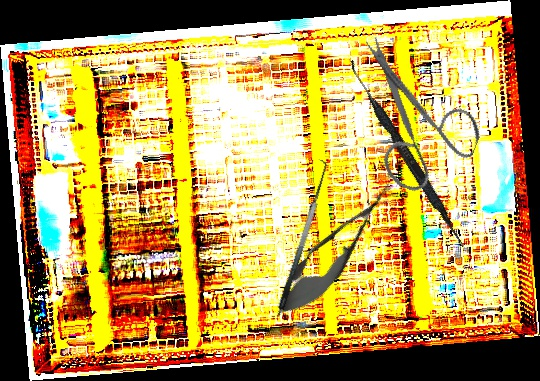Iris Scissors: (320, 34, 501, 207)
Micro Scissor: (262, 169, 408, 331)
Spatula Surgical: (341, 59, 472, 250), (265, 157, 335, 311)
